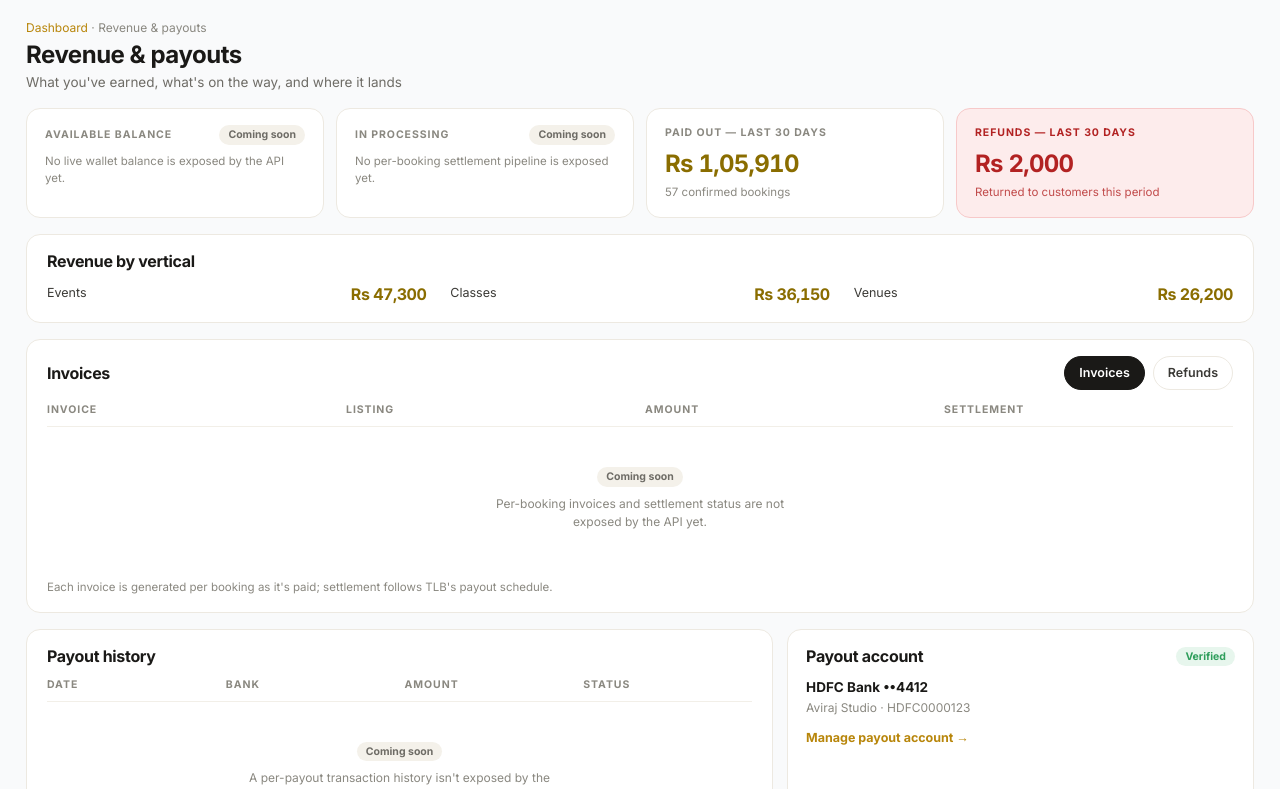
Test case: FinancialHub — bank details modal › opens the manage modal pre-filled with the existing bank details
The image size is (1280, 789).
Expected: the text "HDFC Bank ••4412" is shown, [806,679,928,695]
Click the button "Manage payout account →".
click(888, 739)  # box [806,729,969,748]
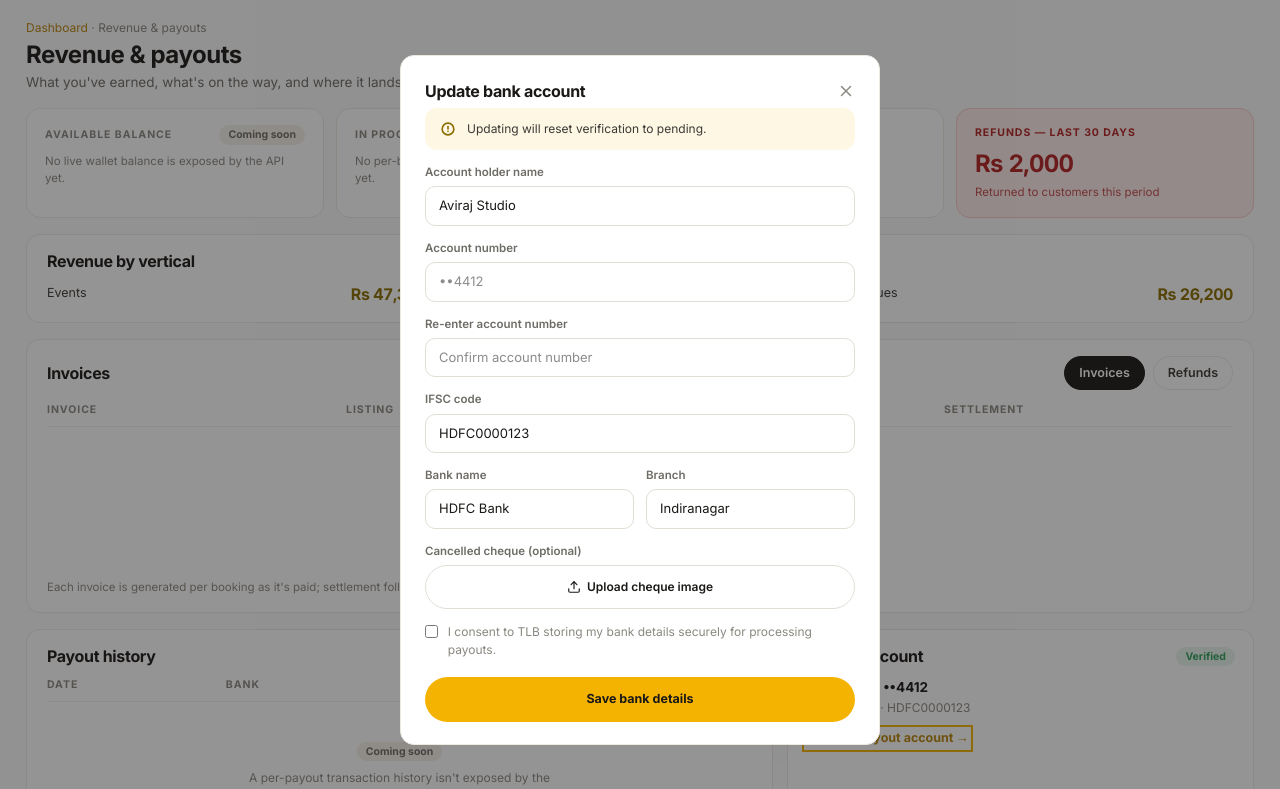
Now the heading "Update bank account" is shown, box [425,81,585,102]
Now the field showing "Aviraj Studio" below "Account holder name" is shown, box [425,186,855,226]
